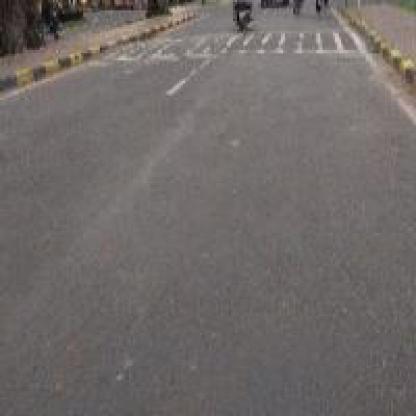Speed Bump: (127, 31, 364, 52)
